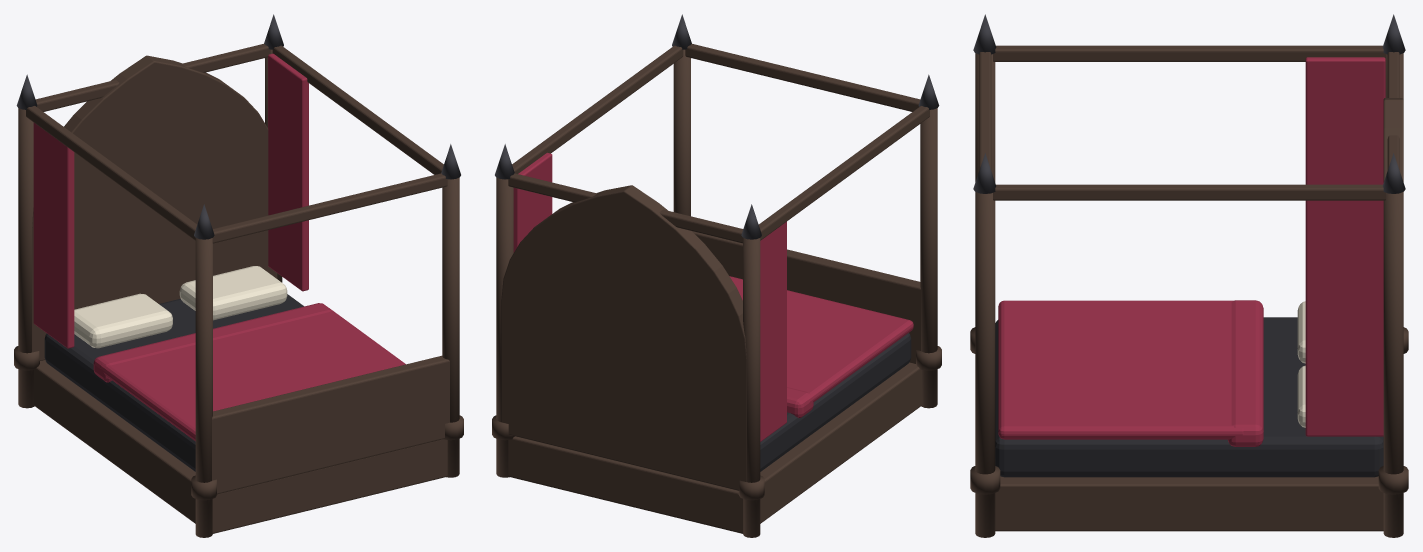
File: bed.glb
3 views of the same model, side by side, from view 1: azimuth 30°, elevation 25°; view 2: azimuth 150°, elevation 25°; view 3: azimuth 270°, elevation 25° (orthographic). The views are drawn at different scales.
Visible parts, largest first — view 1: GD_bed; view 2: GD_bed; view 3: GD_bed.
Boxes of the visible parts, bbox=[...] form: GD_bed: bbox=[14, 14, 463, 537]; GD_bed: bbox=[492, 14, 941, 537]; GD_bed: bbox=[970, 14, 1408, 537].
Size of the model in its own units: 1.79 by 2.1 by 2.19.
